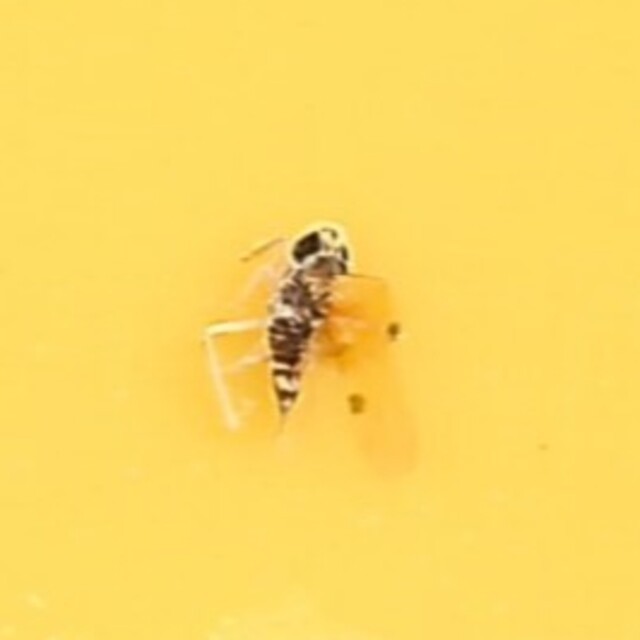Hemiptera: (241, 218, 399, 422)
